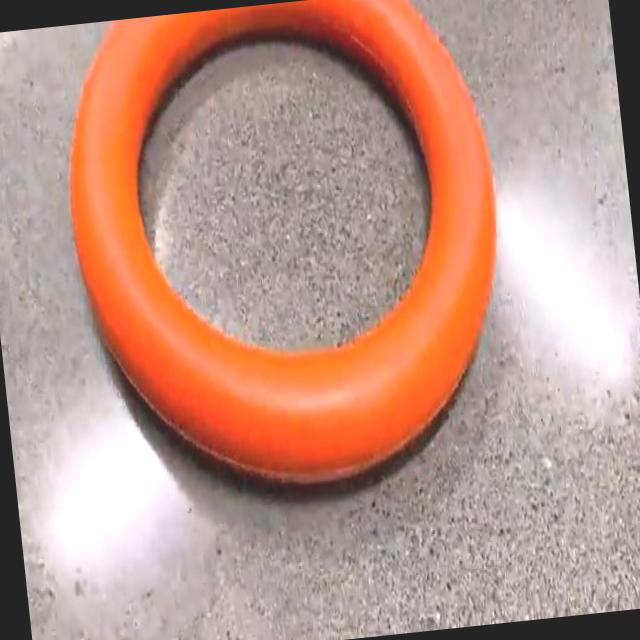note: (70, 0, 495, 480)
